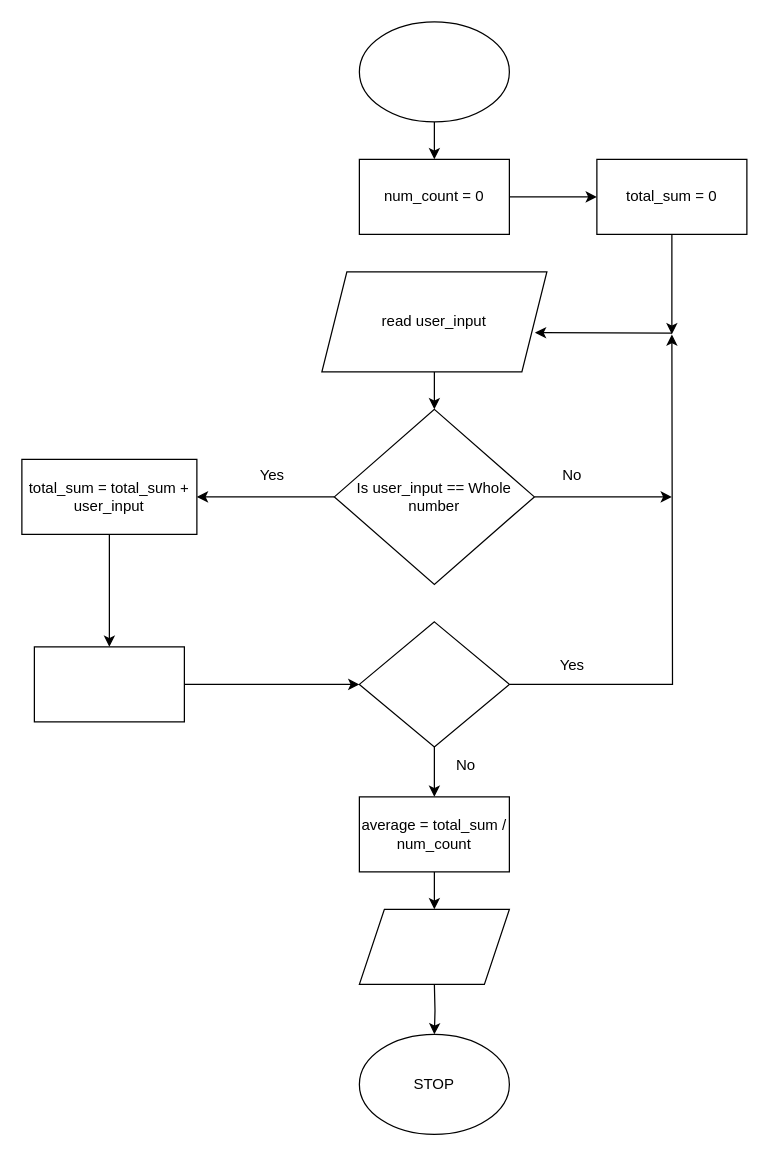
The diagram is 769 pixels wide and 1156 high, and some of its shapes have lost their labels. Each missing label, with the centre of its shape:
"Is num_count < 5" goes at pixel 433 684.
"num_count = num_count + 1" goes at pixel 108 684.
"print average" goes at pixel 433 946.
"START" goes at pixel 433 71.
